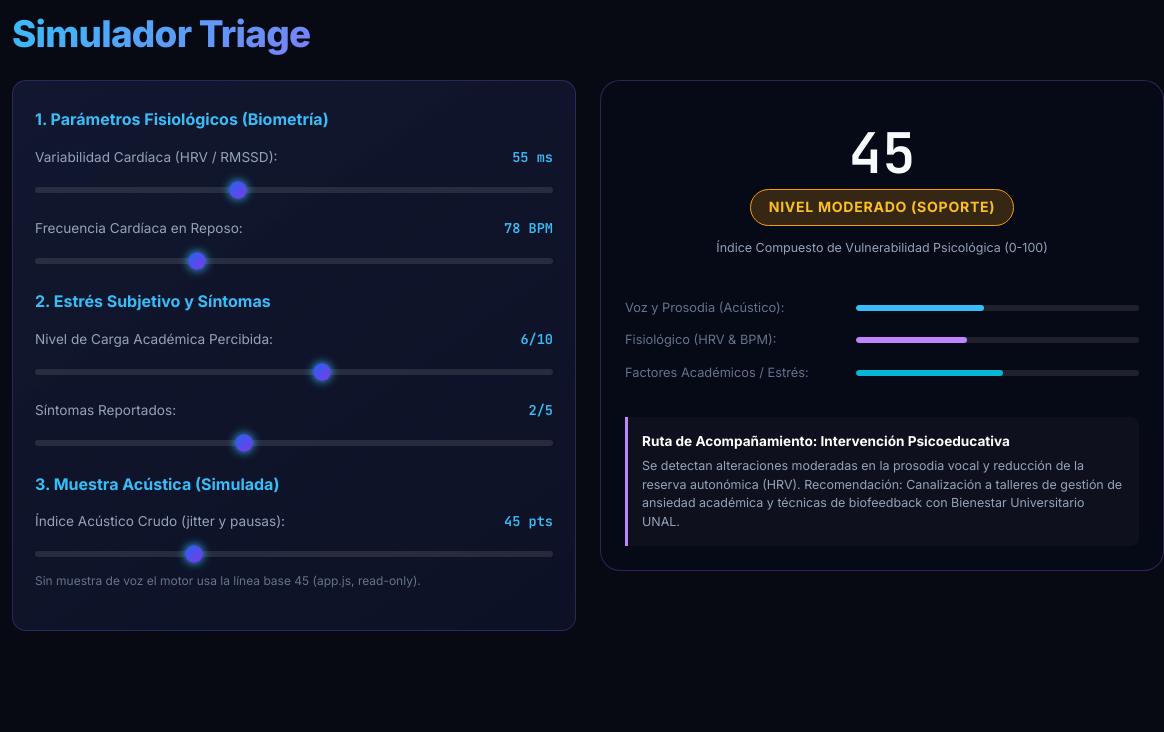
Test: TriageSimulator (profile-triage-engine S6) › shows the high-priority stratum when all channels saturate
Step 1. Set the slider labelled "Variabilidad Cardíaca (HRV / RMSSD):" to "20" → [43, 190], box [35, 186, 553, 192]
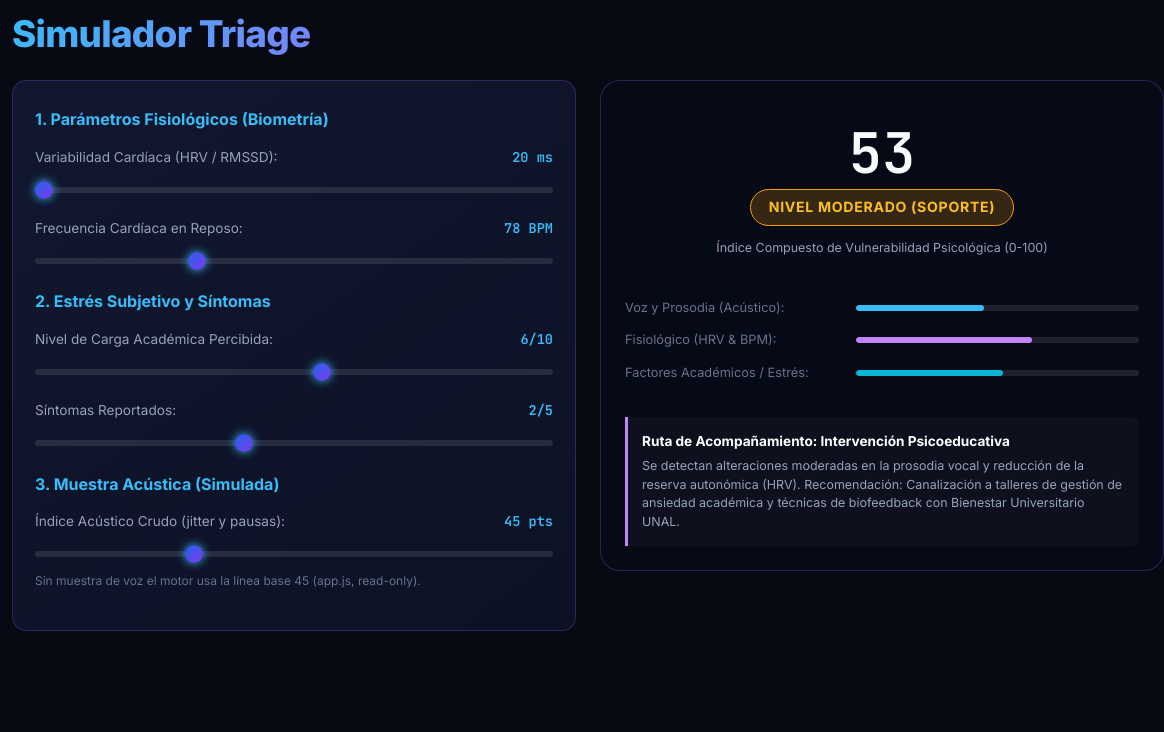
Step 2. Set the slider labelled "Frecuencia Cardíaca en Reposo:" to "130" → [545, 261], box [35, 258, 553, 264]
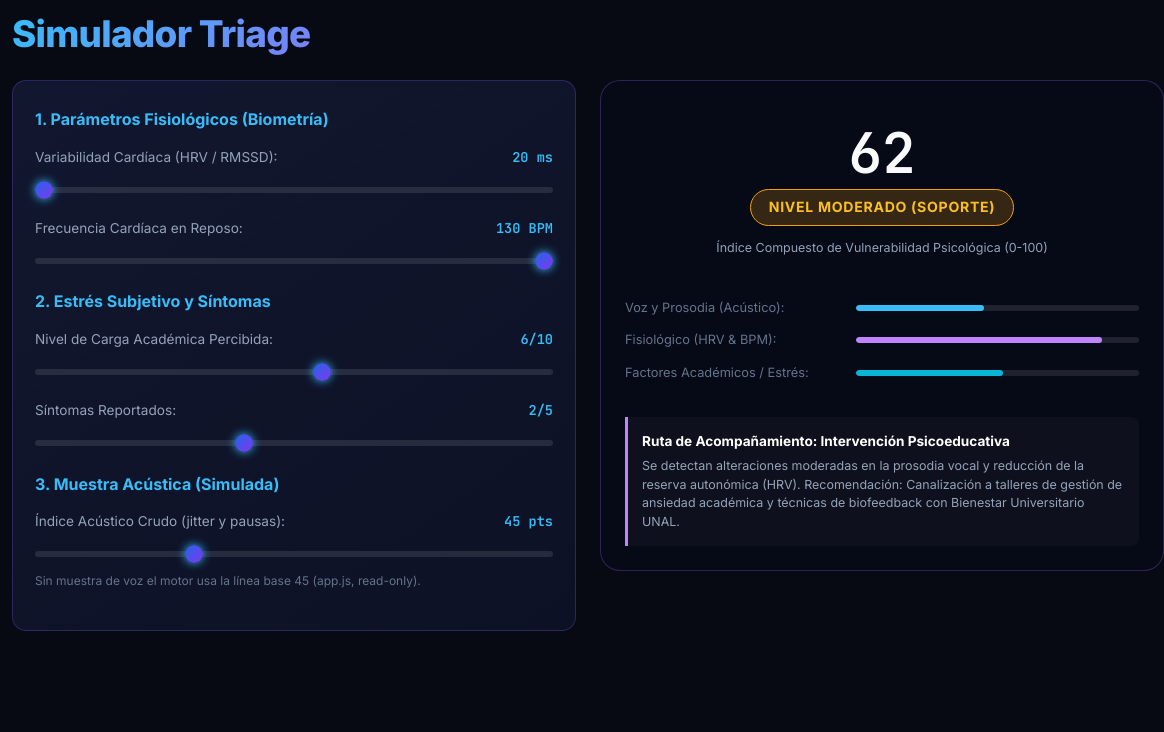
Step 3. Set the slider labelled "Nivel de Carga Académica Percibida:" to "10" → [545, 372], box [35, 369, 553, 375]
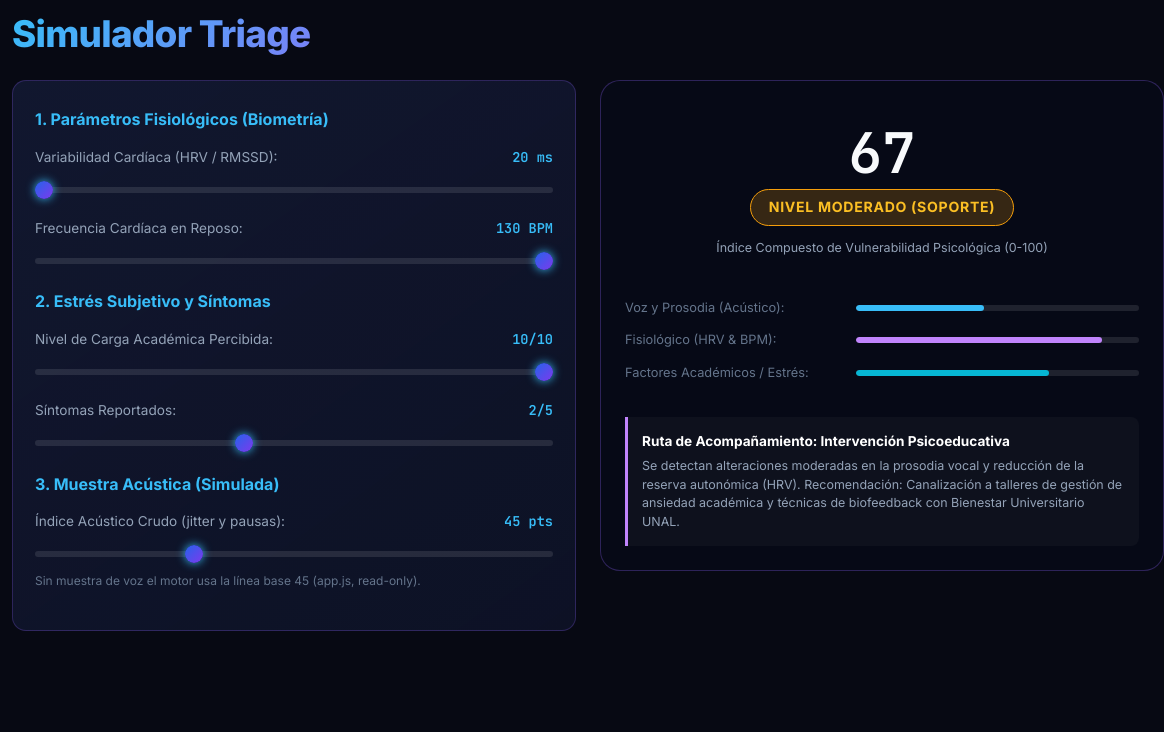
Step 4. Set the slider labelled "Síntomas Reportados:" to "5" → [545, 443], box [35, 440, 553, 446]
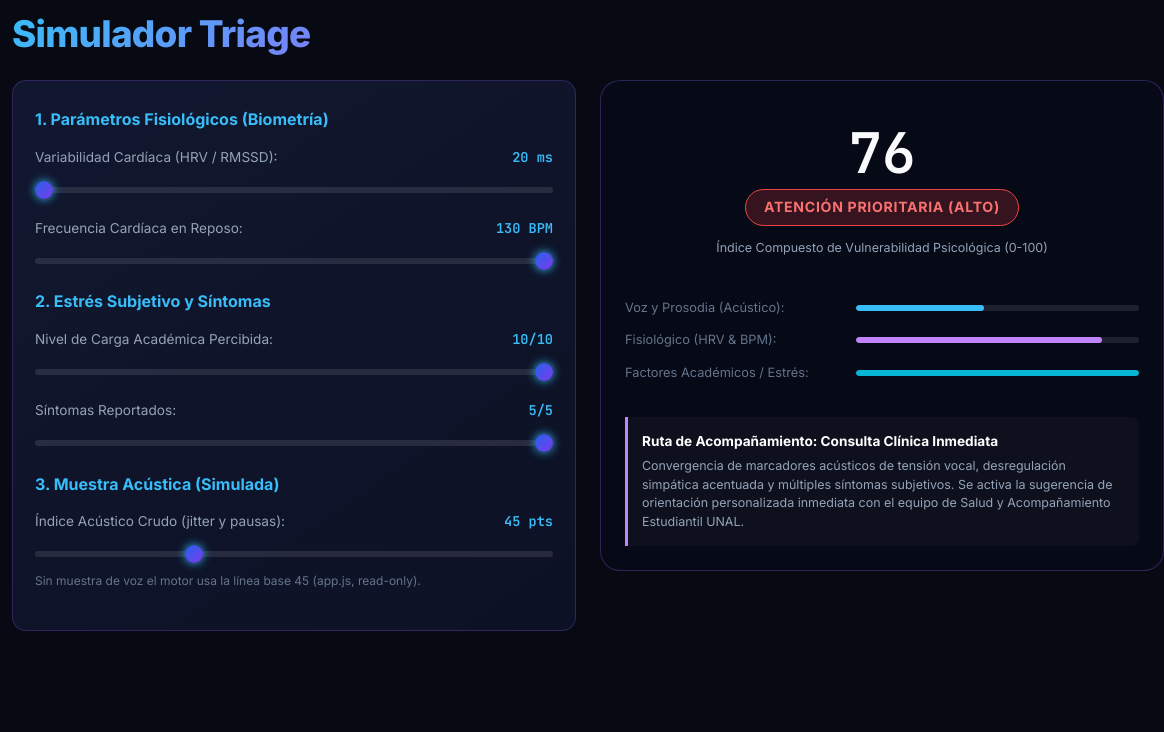
Step 5. Set the slider labelled "Índice Acústico Crudo (jitter y pausas):" to "93" → [354, 554], box [35, 551, 553, 557]
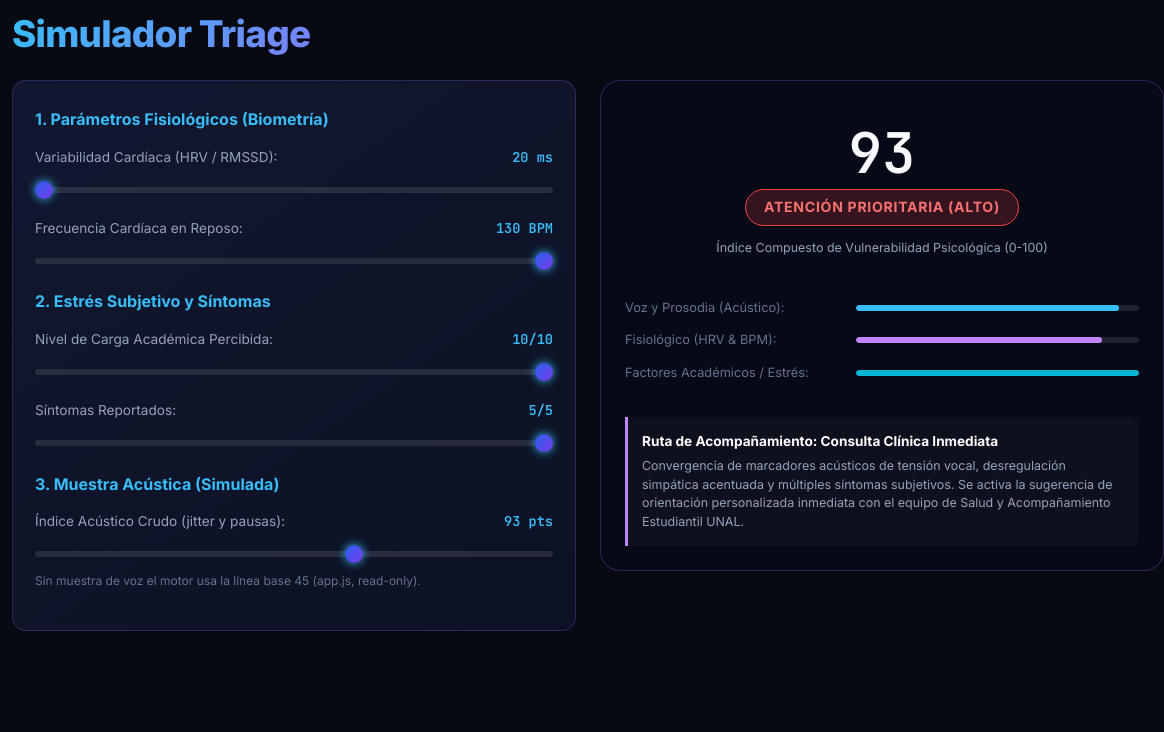
Expected: the text "Atención Prioritaria (Alto)" is shown, [745, 189, 1019, 226]
Expected: the heading "Ruta de Acompañamiento: Consulta Clínica Inmediata" is shown, [642, 433, 998, 449]
Expected: the text with test id "triage-score" reads "93", [848, 116, 916, 190]
